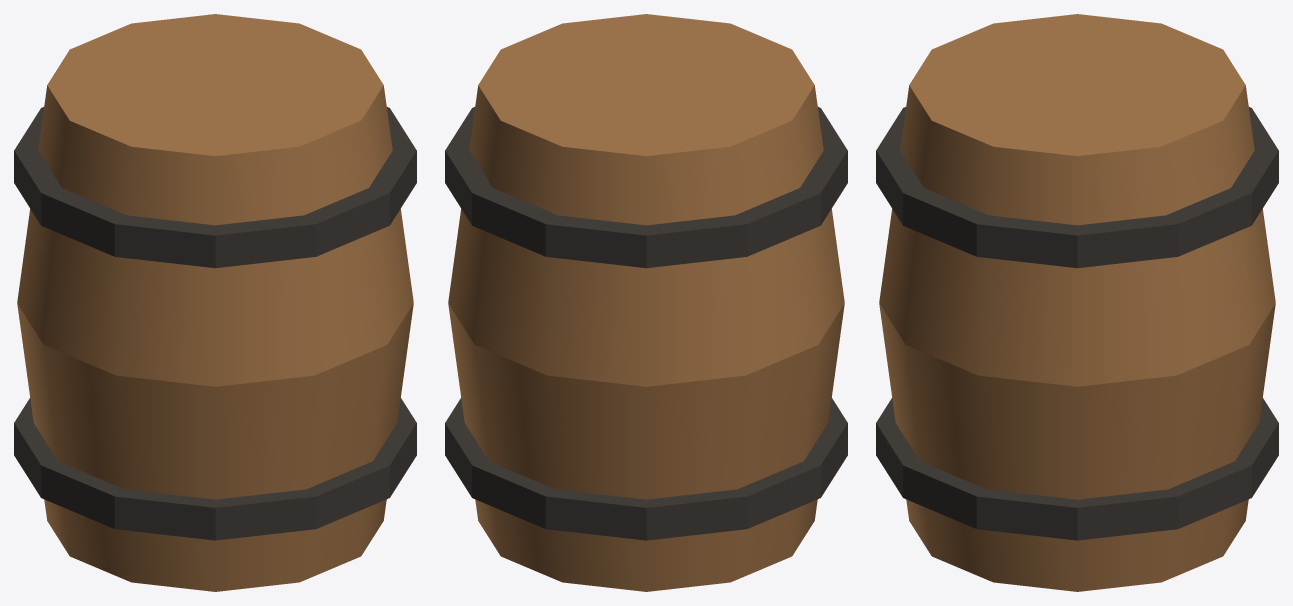
The model's file is prop_barrel.glb.
The picture shows the model from 3 angles, left to right: view 1: azimuth 30°, elevation 25°; view 2: azimuth 150°, elevation 25°; view 3: azimuth 270°, elevation 25°; orthographic projection.
Parts seen in each view (by area): view 1: Prop_Barrel; view 2: Prop_Barrel; view 3: Prop_Barrel.
Boxes of the visible parts, <box> form: Prop_Barrel: <box>14,14,416,591</box>; Prop_Barrel: <box>445,14,847,591</box>; Prop_Barrel: <box>876,14,1278,591</box>.
Size of the model in its own units: 0.67 by 0.8 by 0.67.
